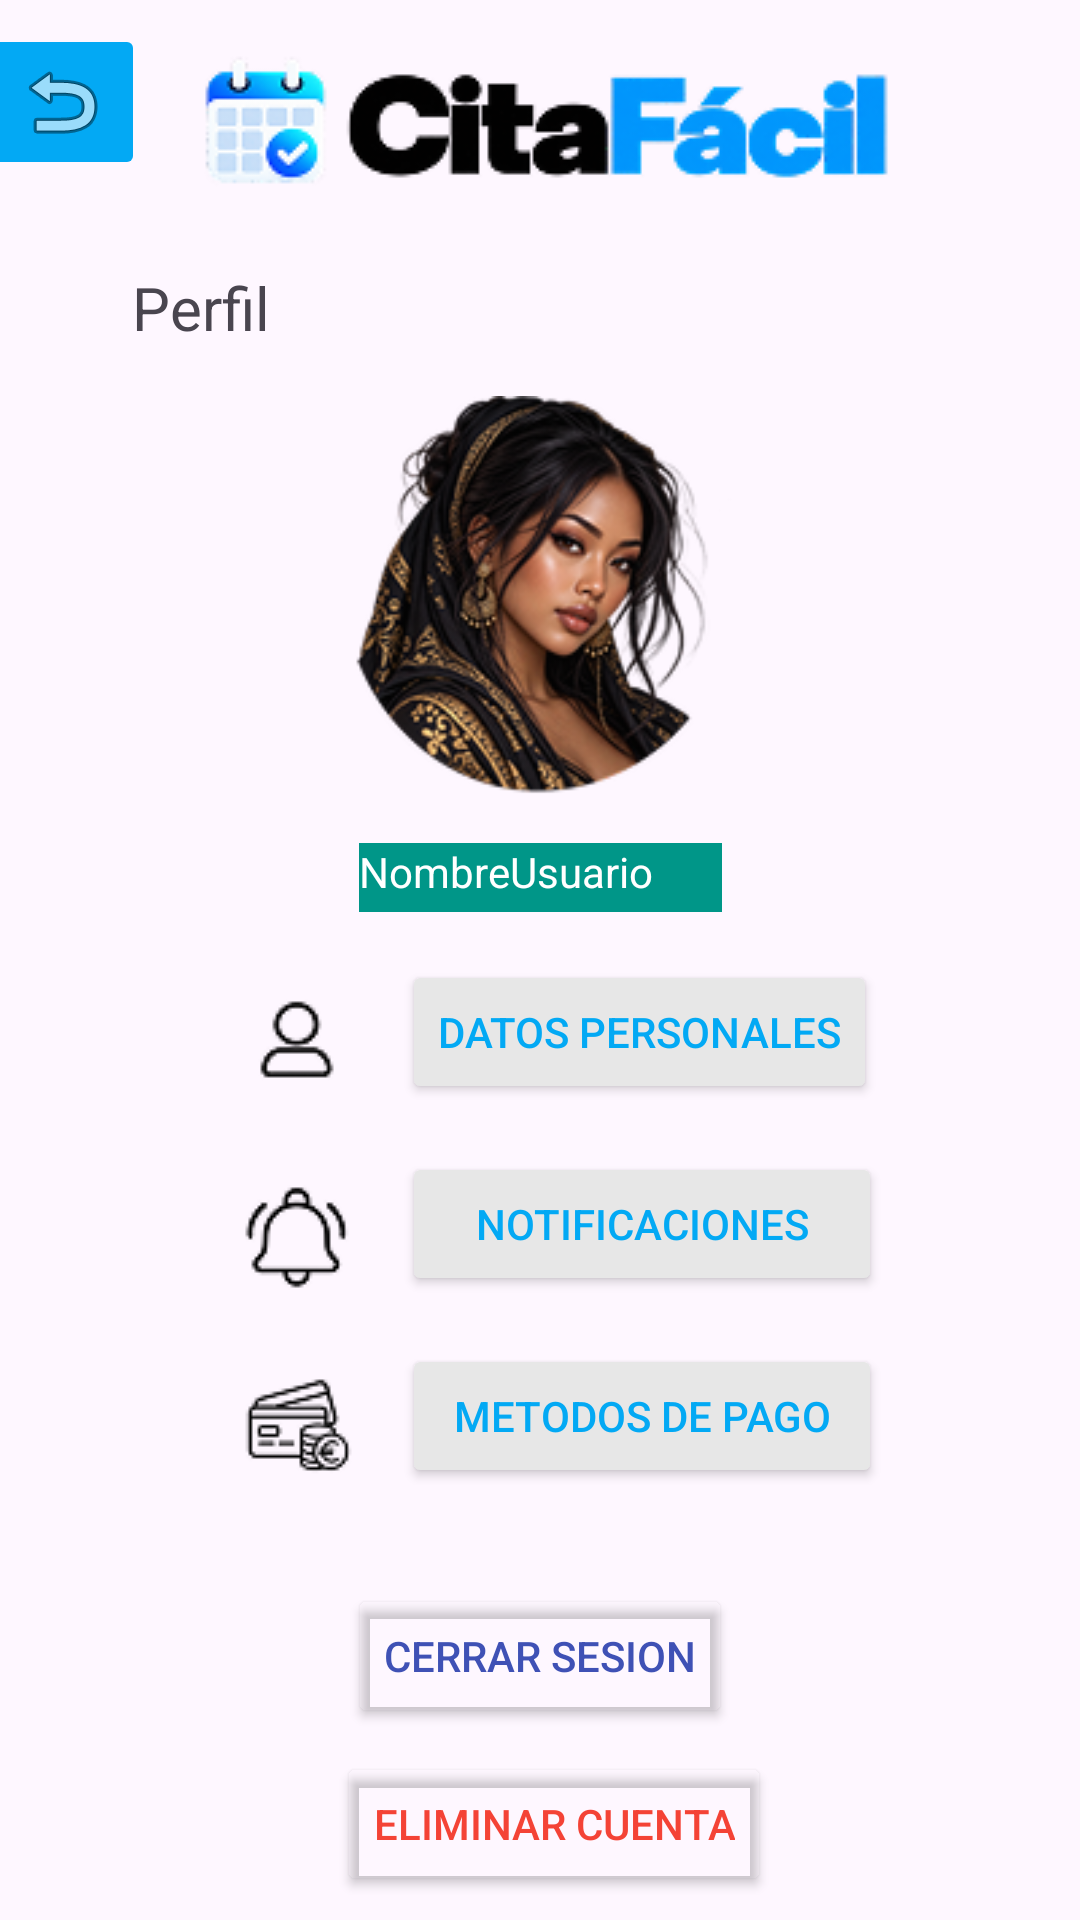

Locate icon controls on the screen. Image size 1080x1920, boxes as (x1, y1, x2, y2).
campana notif: (245, 1187, 346, 1288)
metodospago: (246, 1379, 350, 1471)
